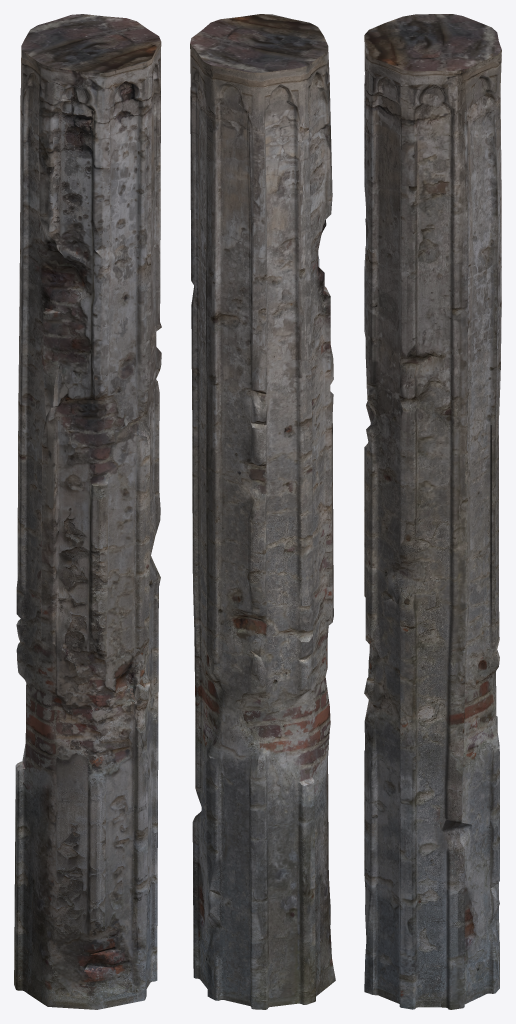
The model's file is SM_ChapelColumn_01_01.fbx.
3 renders of one model, left to right at view 1: azimuth 30°, elevation 25°; view 2: azimuth 150°, elevation 25°; view 3: azimuth 270°, elevation 25°, orthographic.
Visible parts, largest first — view 1: sm_ChapelColumn_01_01_LOD0; view 2: sm_ChapelColumn_01_01_LOD0; view 3: sm_ChapelColumn_01_01_LOD0.
Boxes of the visible parts, x1,y1,x2,y2 form: sm_ChapelColumn_01_01_LOD0: (14, 14, 161, 1009); sm_ChapelColumn_01_01_LOD0: (190, 14, 335, 1009); sm_ChapelColumn_01_01_LOD0: (364, 14, 501, 1009).
Size of the model in its own units: 74.74 by 77.95 by 563.
